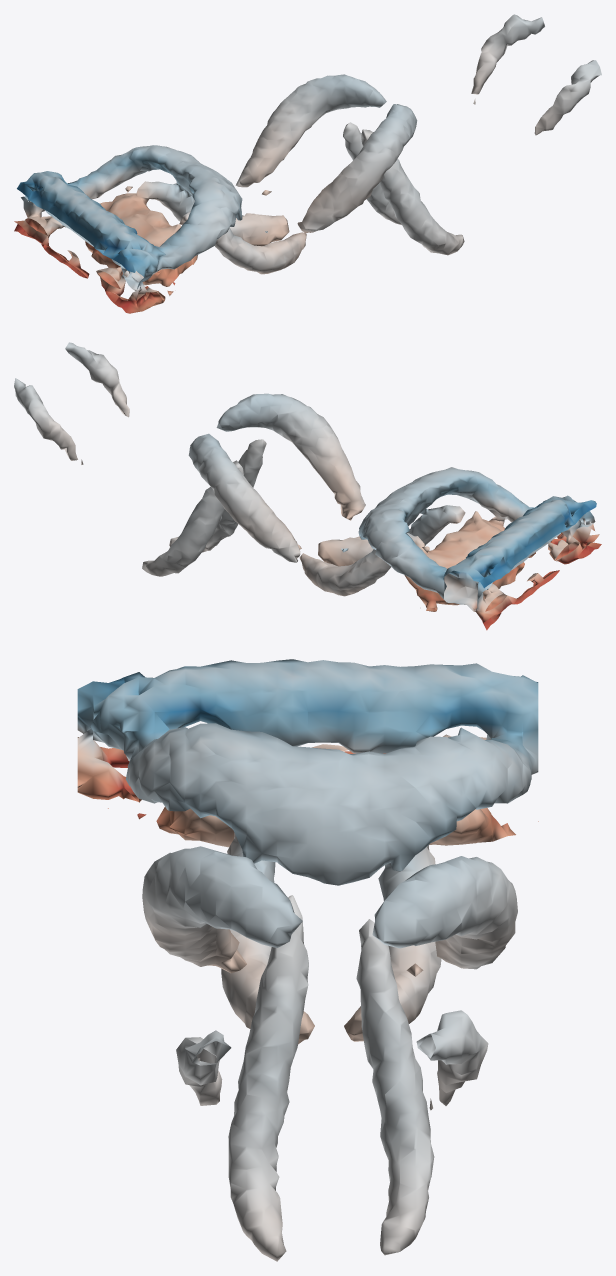
3 renders of one model, top to bottom at view 1: azimuth 30°, elevation 25°; view 2: azimuth 150°, elevation 25°; view 3: azimuth 270°, elevation 25°, orthographic. The views are drawn at different scales.
Size of the model in its own units: 6.25 by 2.11 by 2.5.
